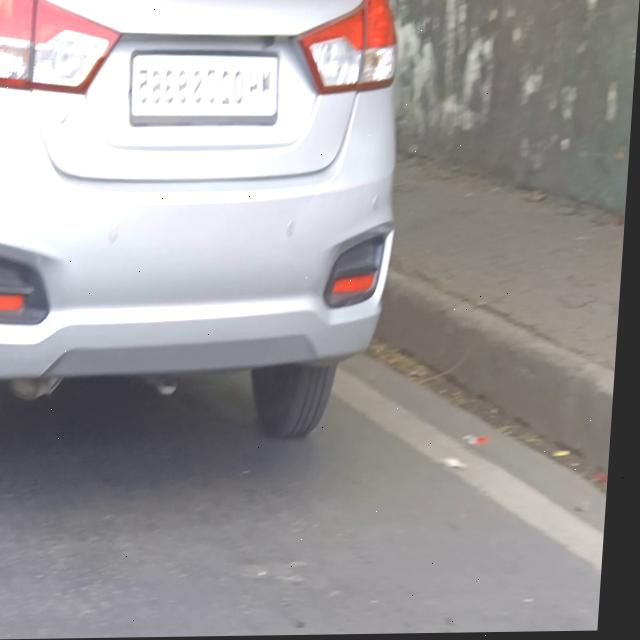plate: (127, 48, 285, 129)
